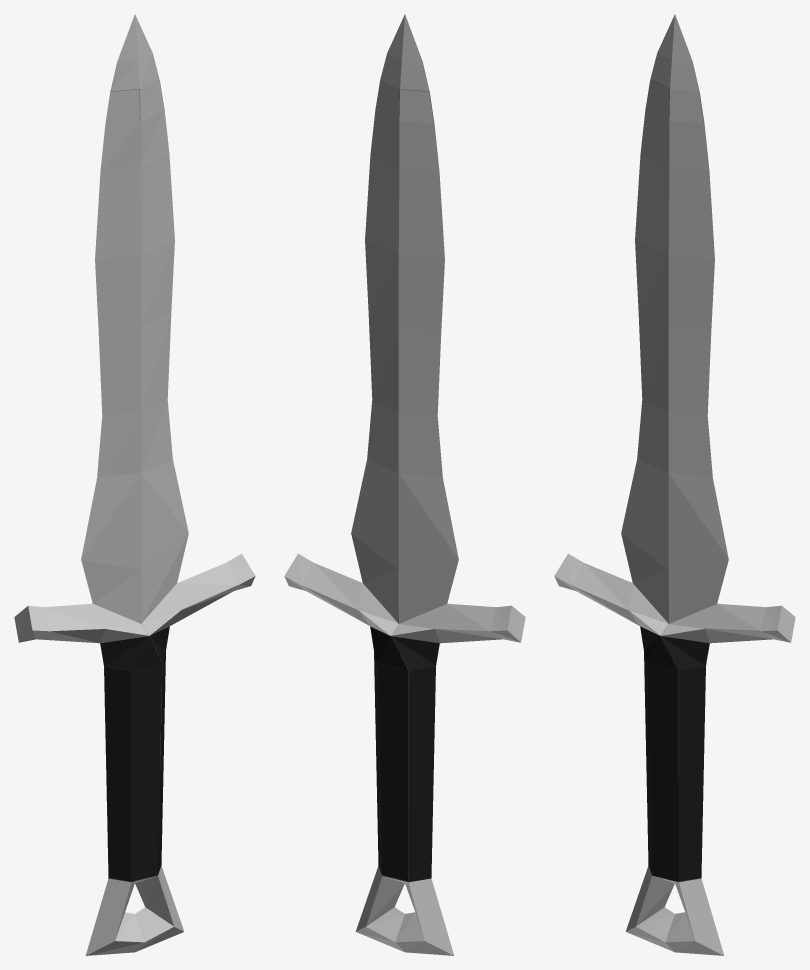
File: steel-1H-sword.obj
3 views of the same model, side by side, from view 1: azimuth 30°, elevation 25°; view 2: azimuth 150°, elevation 25°; view 3: azimuth 330°, elevation 25° (orthographic).
Parts seen in each view (by area): view 1: KingdomShortsword_Cube.001; view 2: KingdomShortsword_Cube.001; view 3: KingdomShortsword_Cube.001.
Boxes of the visible parts, x1,y1,x2,y2 form: KingdomShortsword_Cube.001: (14,14,255,955); KingdomShortsword_Cube.001: (284,14,525,955); KingdomShortsword_Cube.001: (554,14,795,955).
Size of the model in its own units: 0.5172 by 2 by 0.1117.
Materials: 2 (2 with a texture image).
